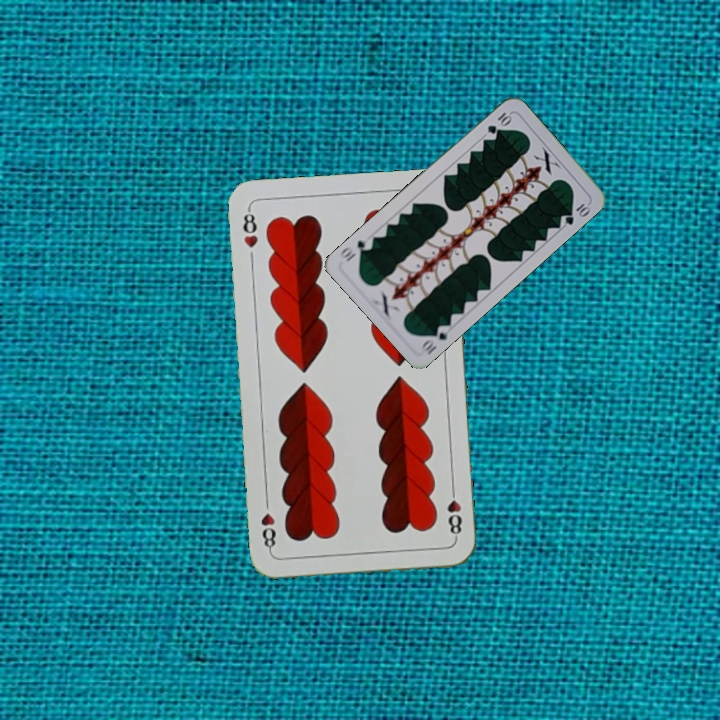G10: (418, 320, 454, 358), (483, 108, 515, 136)
H8: (443, 482, 465, 541), (239, 205, 261, 251)
